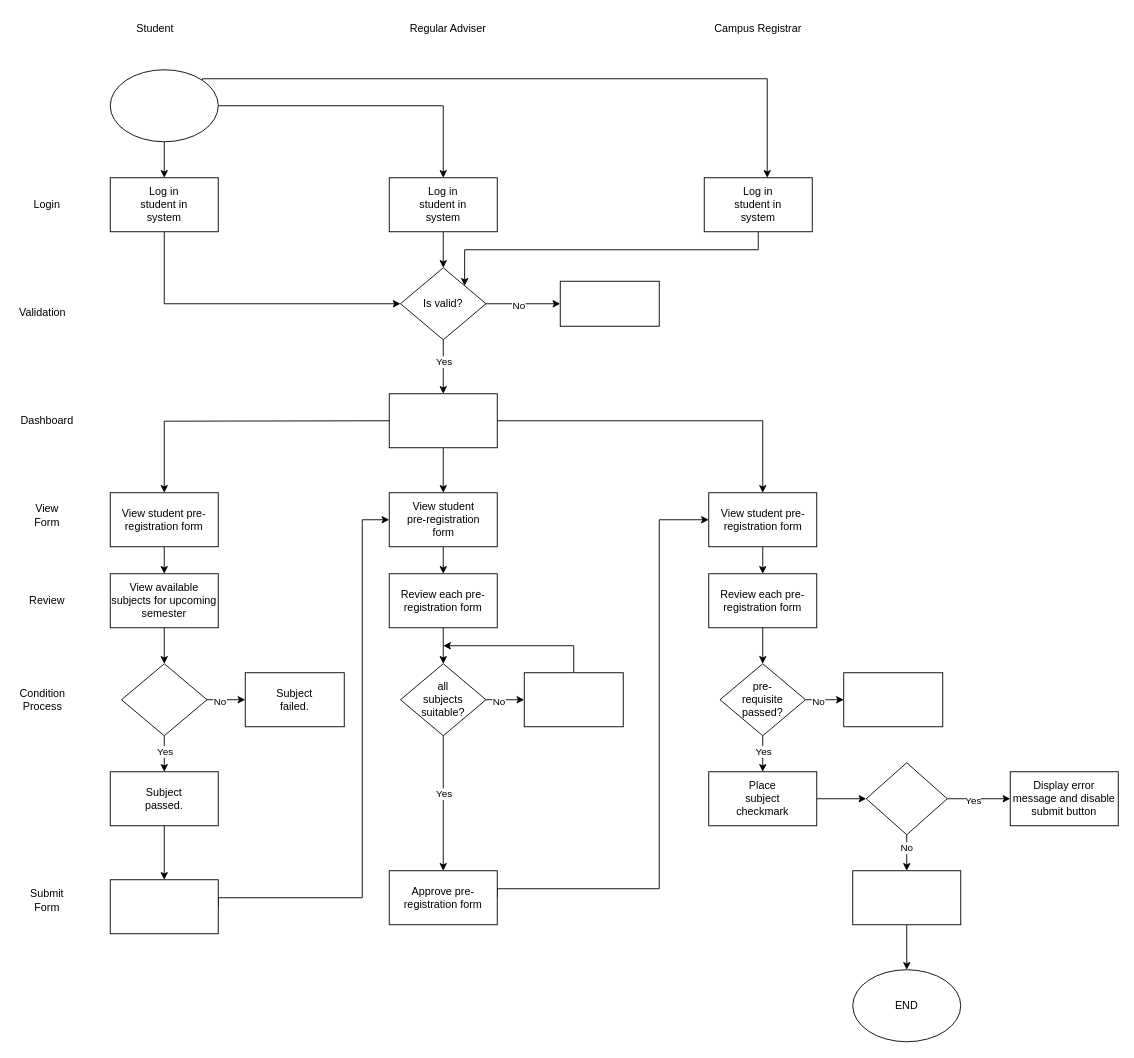
Image size: 1134x1058. Some labels were removed from this diagram. The centre of each missing label's shape, as x and y in pixels:
Approve pre-registration form. Enrolled.: (x=906, y=897)
Remove or add subjects: (x=573, y=699)
Show error message: "Incorrect username/password": (x=609, y=303)
START: (x=163, y=105)
Subject passed?: (x=164, y=699)
Submit pre-registration form: (x=163, y=906)
total units>=24?: (x=906, y=798)
Uncheck subject checkmark: (x=893, y=699)
View Dashboard: (x=442, y=420)
